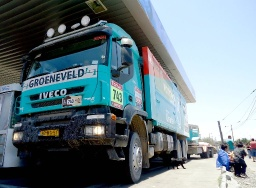truck: (17, 18, 191, 180)
